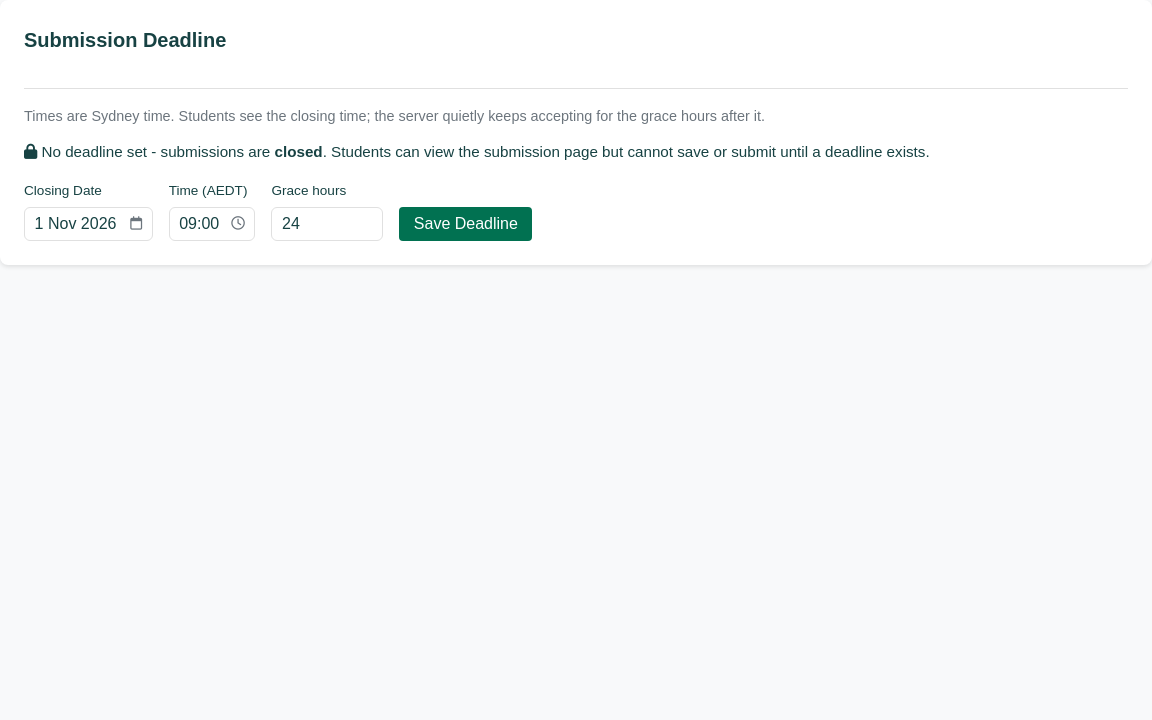
Test case: setting a deadline › a refused save is reported under the form
Submit the form, box [272,183,532,240]
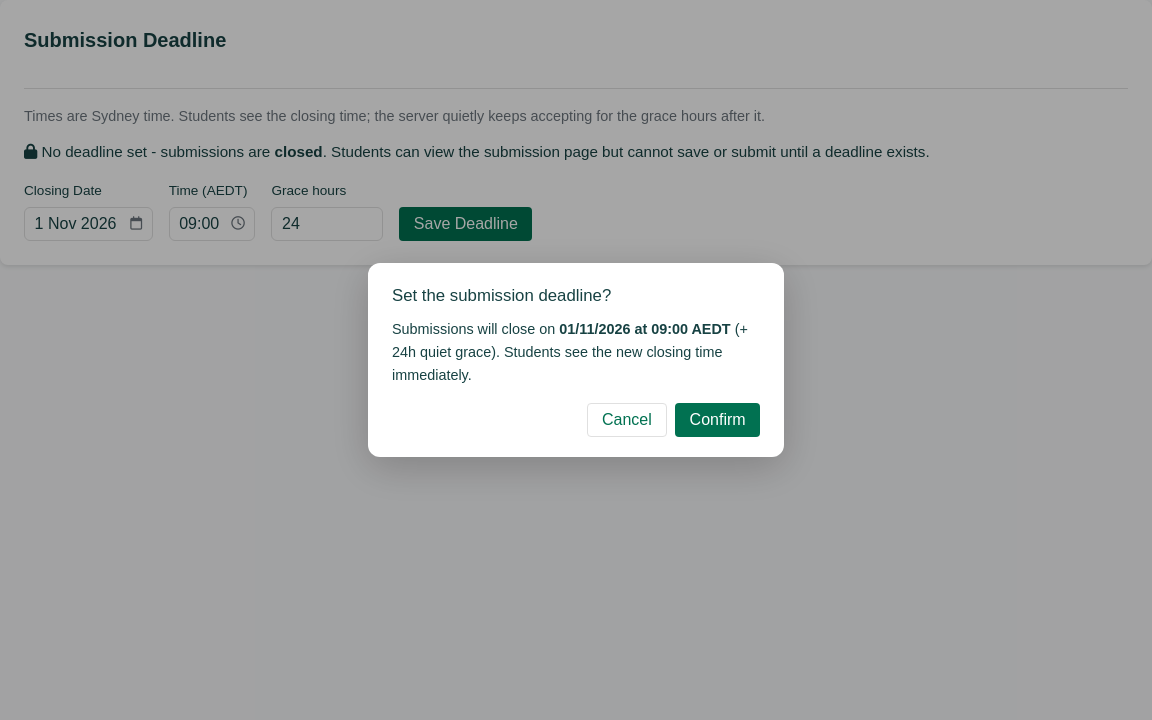
Click the button "Confirm" at x=718, y=420, box [675,403,760,437]
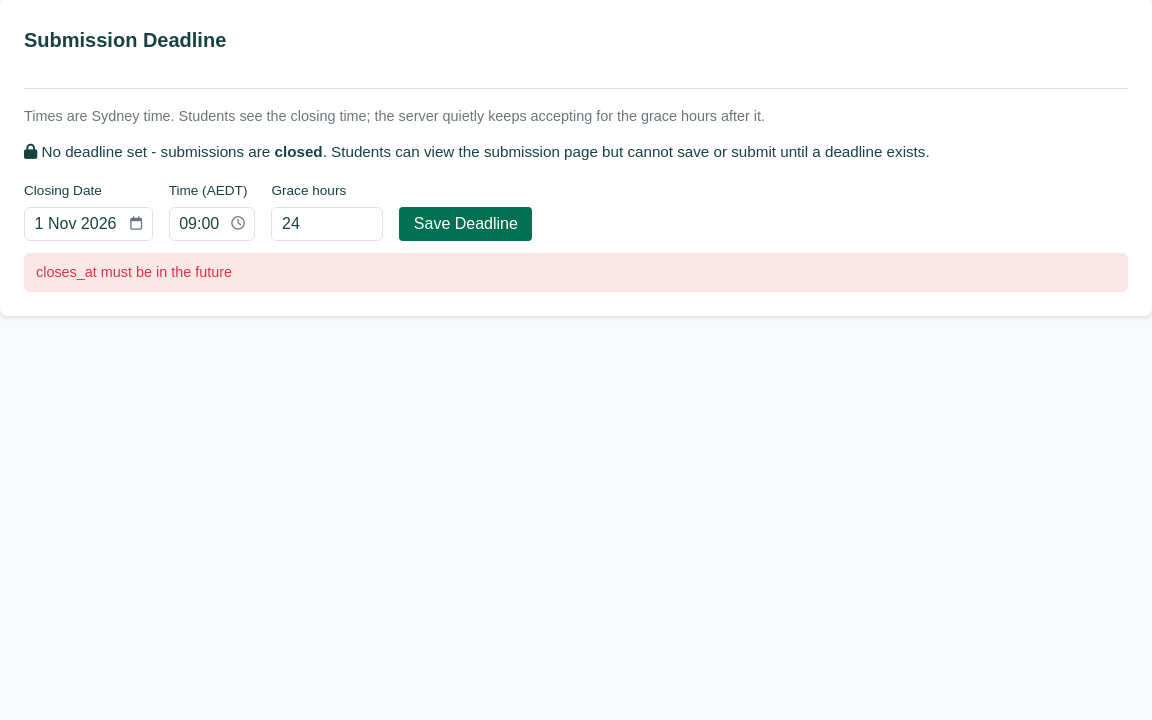
Now the text with class "deadline__banner--error" reads "closes_at must be in the future", box [36,264,232,280]
